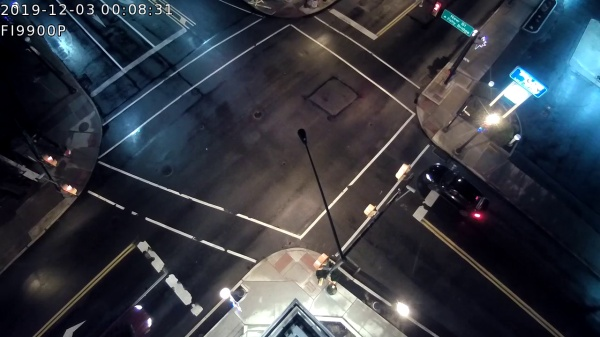car: (415, 158, 489, 219), (96, 298, 159, 337)
